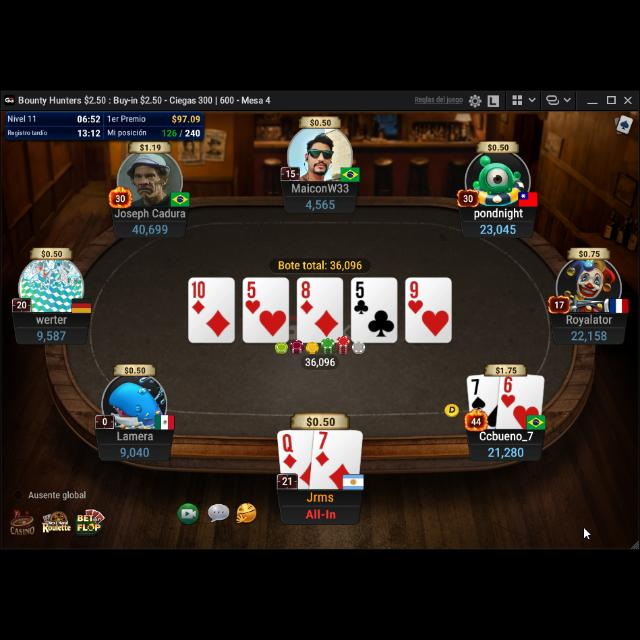5c: (354, 279, 371, 317)
5h: (244, 278, 262, 316)
6h: (500, 375, 516, 409)
7d: (313, 430, 331, 468)
7s: (469, 376, 487, 410)
8d: (299, 278, 315, 316)
9h: (408, 278, 424, 314)
Qd: (281, 431, 299, 469)
Td: (191, 277, 207, 315)
all_in_symbol: (304, 504, 338, 522)
bet_text: (304, 354, 336, 368)
dealer: (444, 402, 461, 416)
pot_text: (278, 258, 364, 270), (306, 414, 336, 426)
stack_text: (478, 220, 518, 236), (131, 221, 169, 235), (487, 443, 525, 457), (570, 328, 608, 340), (119, 444, 151, 458), (36, 327, 66, 341), (306, 197, 336, 210)
